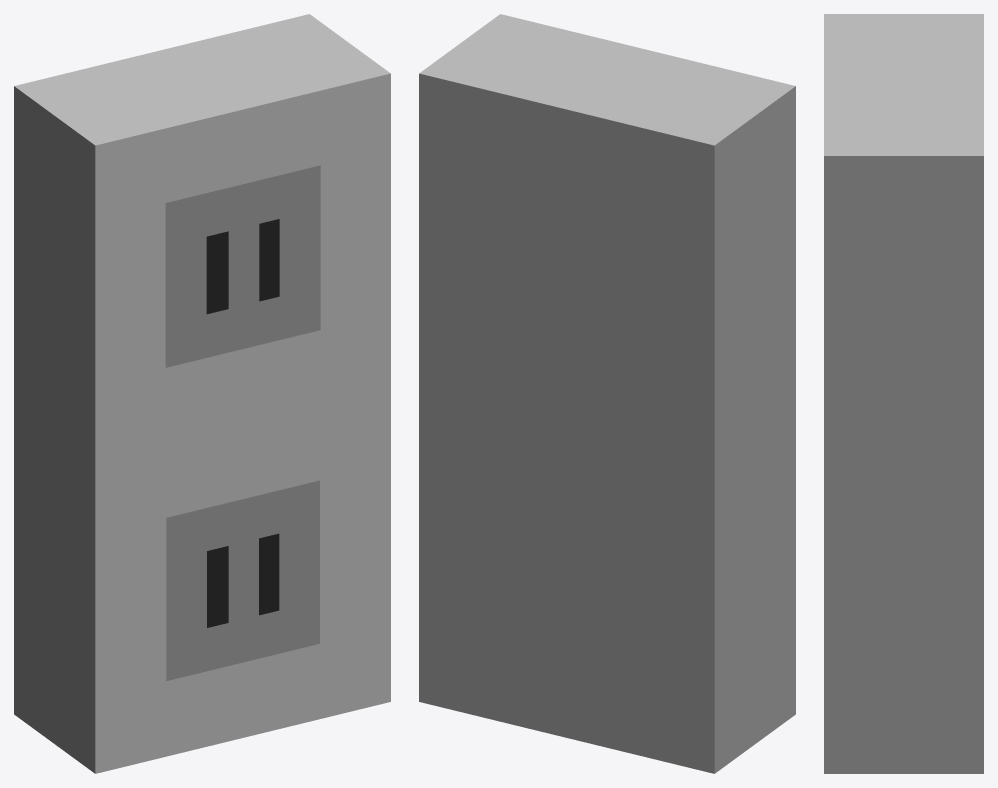
The model's file is SO_PowerOutlet.fbx.
3 views of the same model, side by side, from view 1: azimuth 30°, elevation 25°; view 2: azimuth 150°, elevation 25°; view 3: azimuth 270°, elevation 25° (orthographic).
Visible parts, largest first — view 1: SO_PowerOutlet; view 2: SO_PowerOutlet; view 3: SO_PowerOutlet.
Boxes of the visible parts, x1,y1,x2,y2 form: SO_PowerOutlet: [14, 14, 390, 773]; SO_PowerOutlet: [419, 14, 795, 773]; SO_PowerOutlet: [824, 14, 983, 773].
Size of the model in its own units: 0.2479 by 0.5038 by 0.1182.
